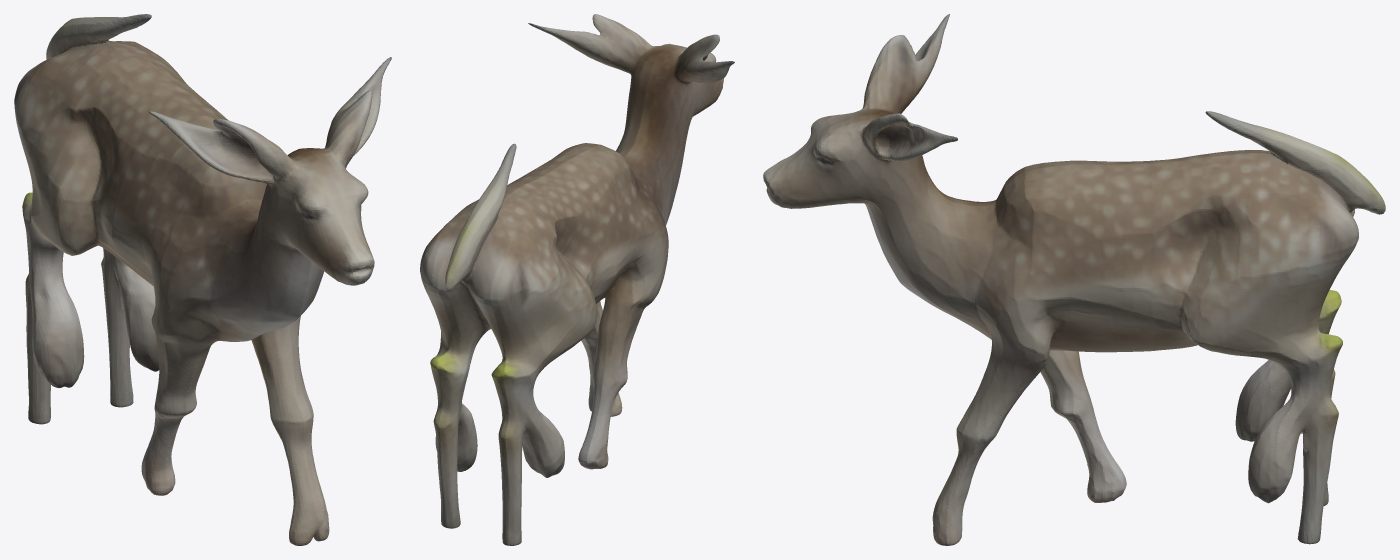
The model's file is deer.glb.
The picture shows the model from 3 angles, left to right: view 1: azimuth 30°, elevation 25°; view 2: azimuth 150°, elevation 25°; view 3: azimuth 270°, elevation 25°; orthographic projection. The views are drawn at different scales.
Parts seen in each view (by area): view 1: world; view 2: world; view 3: world.
Part boxes in pixels (x1,y1,x2,y2): world: (14,14,391,545); world: (420,14,734,545); world: (763,14,1385,545).
Bounding box in the file's own units: 0.4415 × 0.7975 × 0.9972.
